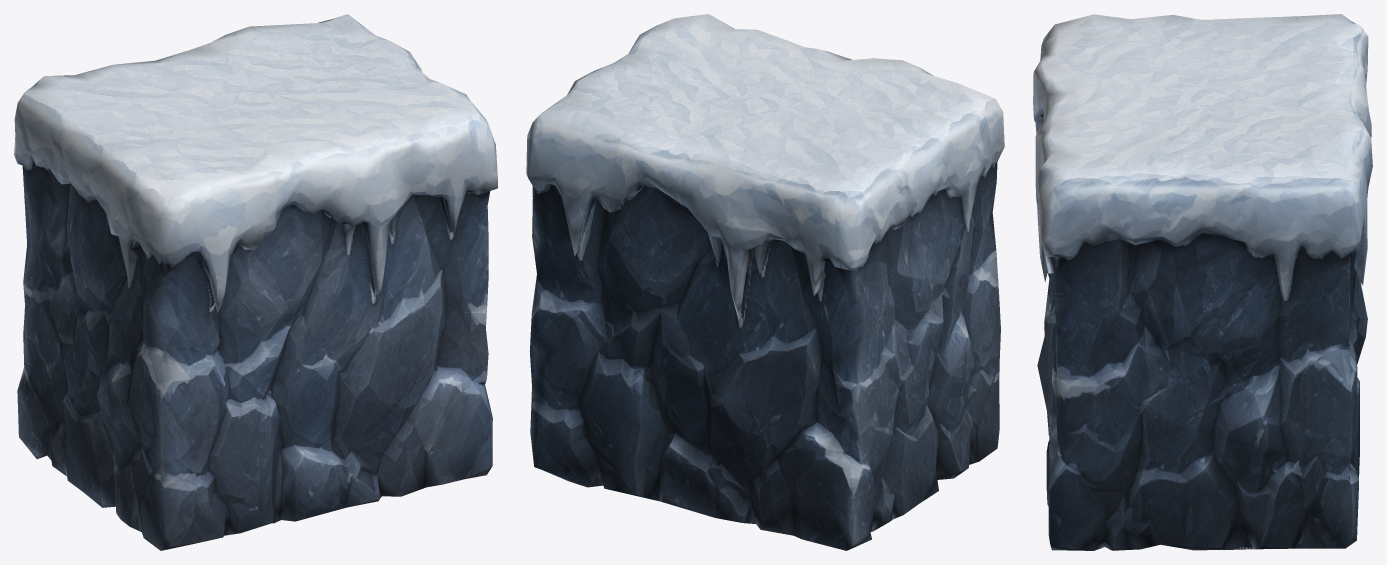
The model's file is Tile_Ice_Wall.fbx.
The picture shows the model from 3 angles, left to right: view 1: azimuth 30°, elevation 25°; view 2: azimuth 150°, elevation 25°; view 3: azimuth 270°, elevation 25°; orthographic projection. The views are drawn at different scales.
Parts seen in each view (by area): view 1: texture_mapping; view 2: texture_mapping; view 3: texture_mapping.
Boxes of the visible parts, x1,y1,x2,y2 form: texture_mapping: (14,14,497,550); texture_mapping: (526,14,1004,550); texture_mapping: (1033,14,1372,550).
Bounding box in the file's own units: 0.9996 × 0.8129 × 1.
1 material, 1 textured.
